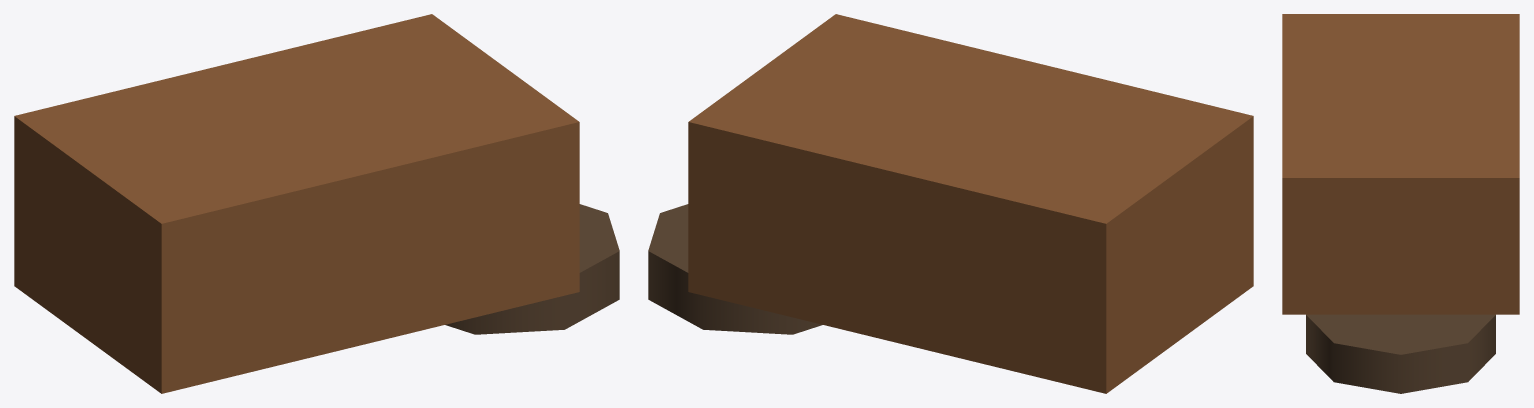
The model's file is wheelbarrow.glb.
The picture shows the model from 3 angles, left to right: view 1: azimuth 30°, elevation 25°; view 2: azimuth 150°, elevation 25°; view 3: azimuth 270°, elevation 25°; orthographic projection. The views are drawn at different scales.
Visible parts, largest first — view 1: wheelbarrow; view 2: wheelbarrow; view 3: wheelbarrow.
Boxes of the visible parts, x1,y1,x2,y2 form: wheelbarrow: [14, 14, 619, 393]; wheelbarrow: [648, 14, 1253, 393]; wheelbarrow: [1282, 14, 1519, 393].
Size of the model in its own units: 1.12 by 0.45 by 0.55.
